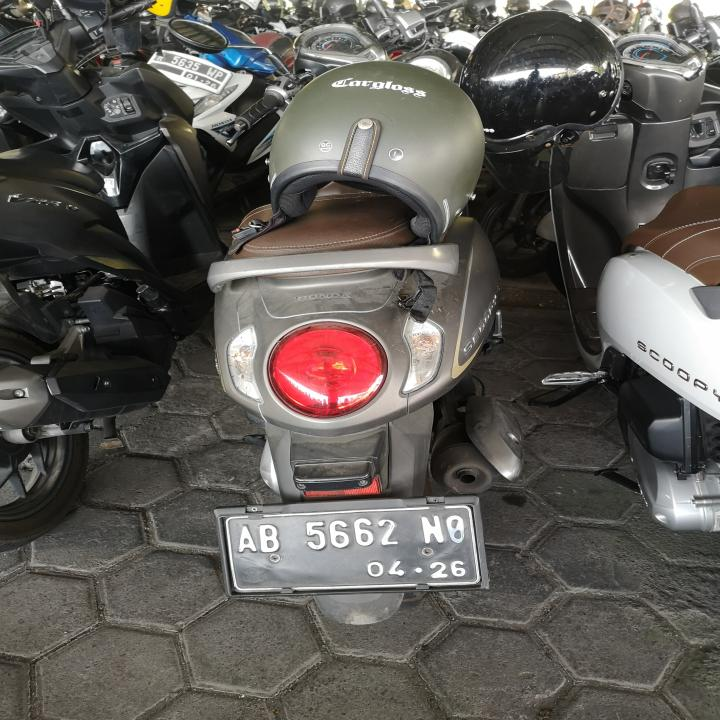plate: (222, 504, 483, 597), (146, 48, 231, 94)
